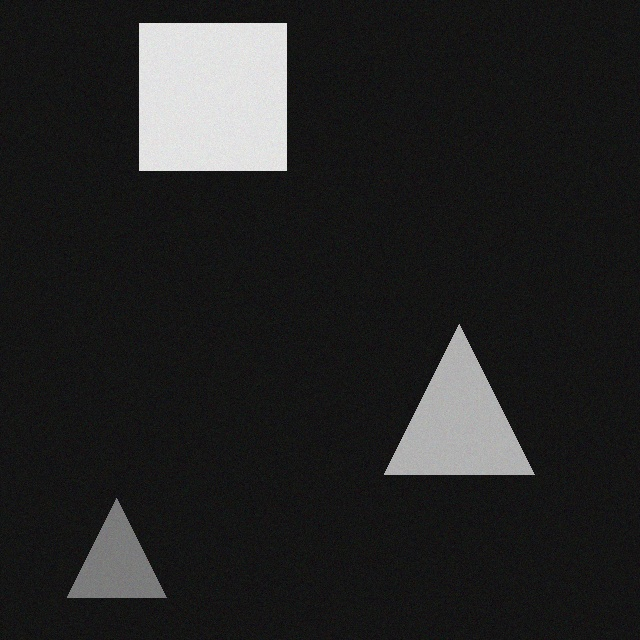square: (124, 16, 271, 163)
triangle: (369, 317, 519, 467), (52, 491, 151, 590)
